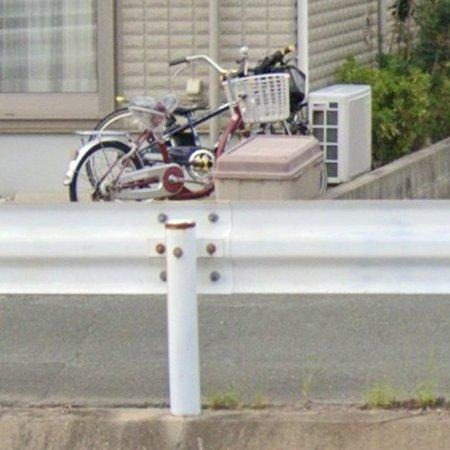bicycles: (66, 58, 290, 202)
